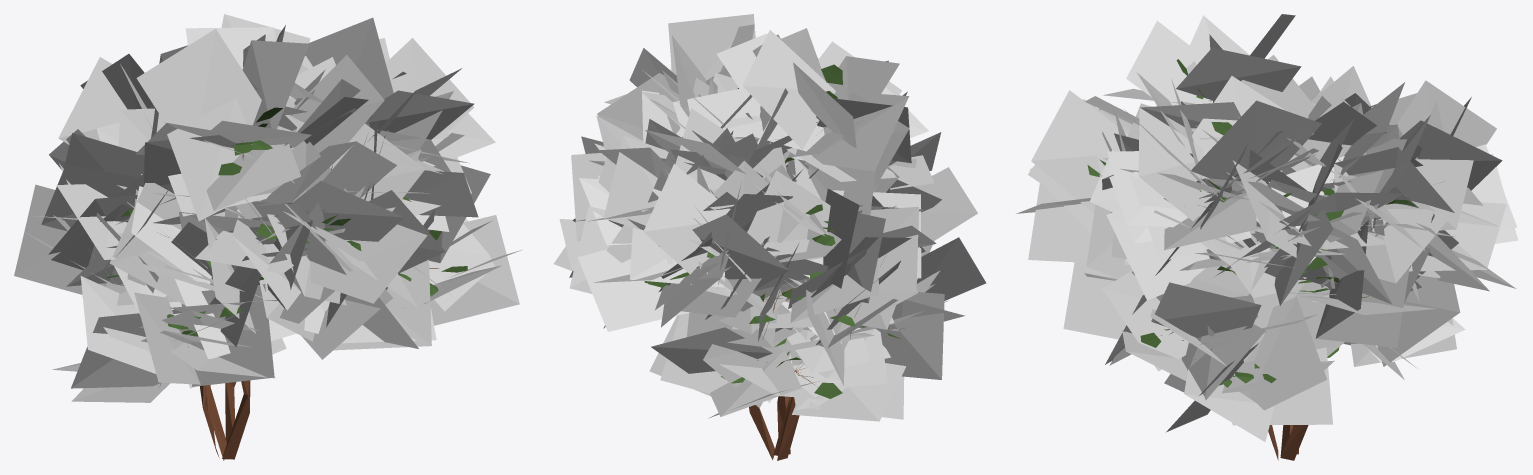
File: Arbousier_Dense_LOD2.fbx
The picture shows the model from 3 angles, left to right: view 1: azimuth 30°, elevation 25°; view 2: azimuth 150°, elevation 25°; view 3: azimuth 270°, elevation 25°; orthographic projection. The views are drawn at different scales.
Visible parts, largest first — view 1: Arbousier_Dense_LOD2; view 2: Arbousier_Dense_LOD2; view 3: Arbousier_Dense_LOD2.
Boxes of the visible parts, left/top/right/bottom form: Arbousier_Dense_LOD2: left=14, top=14, right=522, bottom=460; Arbousier_Dense_LOD2: left=553, top=14, right=986, bottom=460; Arbousier_Dense_LOD2: left=1016, top=14, right=1518, bottom=460.
Bounding box in the file's own units: 423 × 410 × 426.
